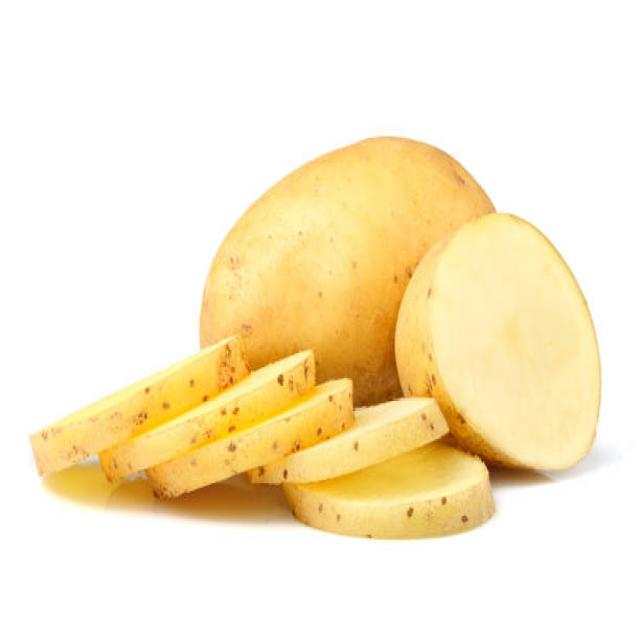Potato: (205, 130, 421, 373), (410, 209, 606, 471)
